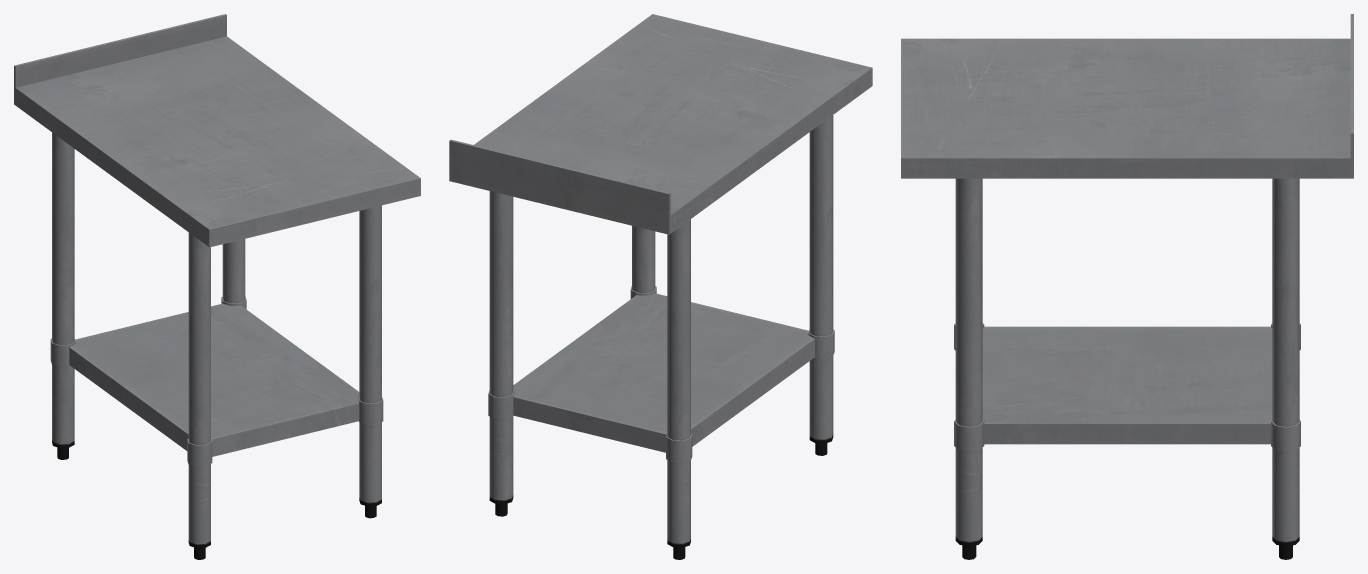
The model's file is SM_Stainless_Steel_Table_03.glb.
3 renders of one model, left to right at view 1: azimuth 30°, elevation 25°; view 2: azimuth 150°, elevation 25°; view 3: azimuth 270°, elevation 25°, orthographic. The views are drawn at different scales.
Parts seen in each view (by area): view 1: SM_Stainless_Steel_Table_03; view 2: SM_Stainless_Steel_Table_03; view 3: SM_Stainless_Steel_Table_03.
Boxes of the visible parts, box(x1,y1,x2,y2) form: SM_Stainless_Steel_Table_03: box(14, 14, 420, 559); SM_Stainless_Steel_Table_03: box(449, 14, 872, 559); SM_Stainless_Steel_Table_03: box(901, 14, 1353, 559).
Bounding box in the file's own units: 0.625 × 1.06 × 1.
1 material, 1 textured.
